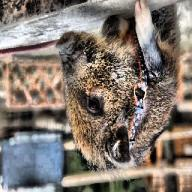boar: (54, 1, 180, 178)
